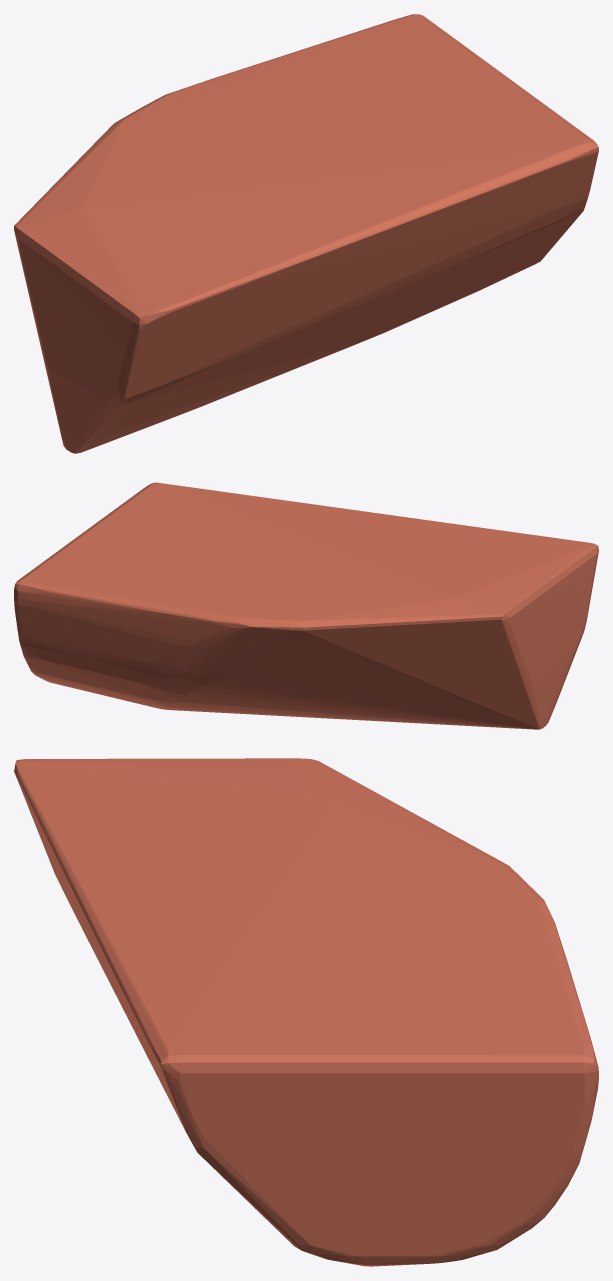
Rendered from right-elbow-0_part_9.obj.
3 renders of one model, top to bottom at view 1: azimuth 30°, elevation 25°; view 2: azimuth 150°, elevation 25°; view 3: azimuth 270°, elevation 25°, orthographic. The views are drawn at different scales.
Size of the model in its own units: 0.0556 by 0.0194 by 0.0448.
